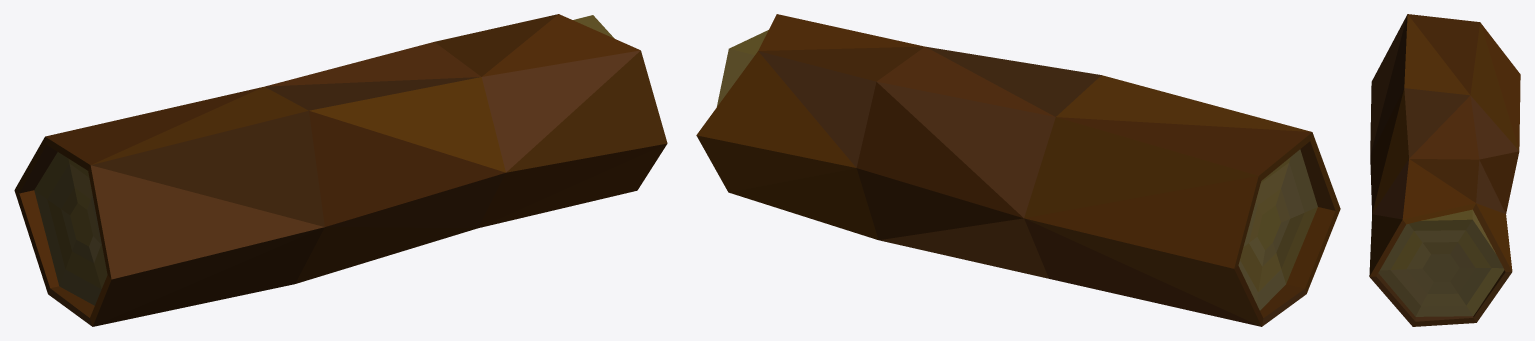
The model's file is Log01.glb.
3 renders of one model, left to right at view 1: azimuth 30°, elevation 25°; view 2: azimuth 150°, elevation 25°; view 3: azimuth 270°, elevation 25°, orthographic. The views are drawn at different scales.
Parts seen in each view (by area): view 1: Log01; view 2: Log01; view 3: Log01.
Part boxes in pixels (x1,y1,x2,y2): Log01: (14,14,667,326); Log01: (696,14,1340,326); Log01: (1369,14,1520,326).
Bounding box in the file's own units: 1.97 × 0.5893 × 0.6371.
